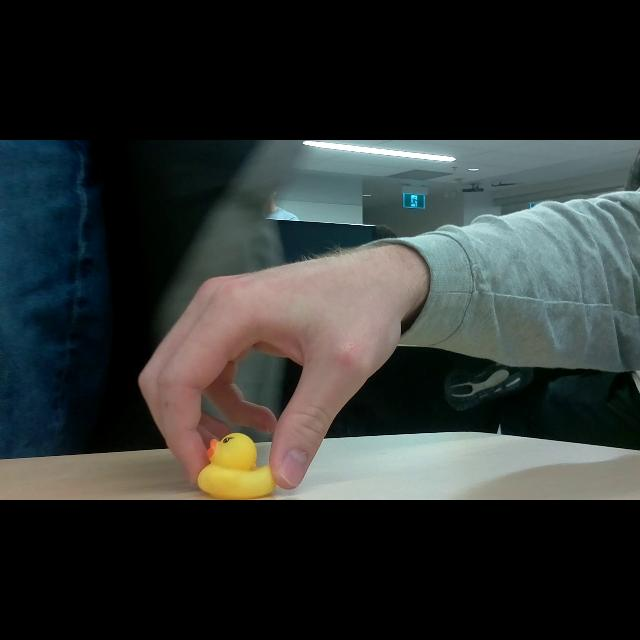duck_regular: (199, 431, 280, 501)
